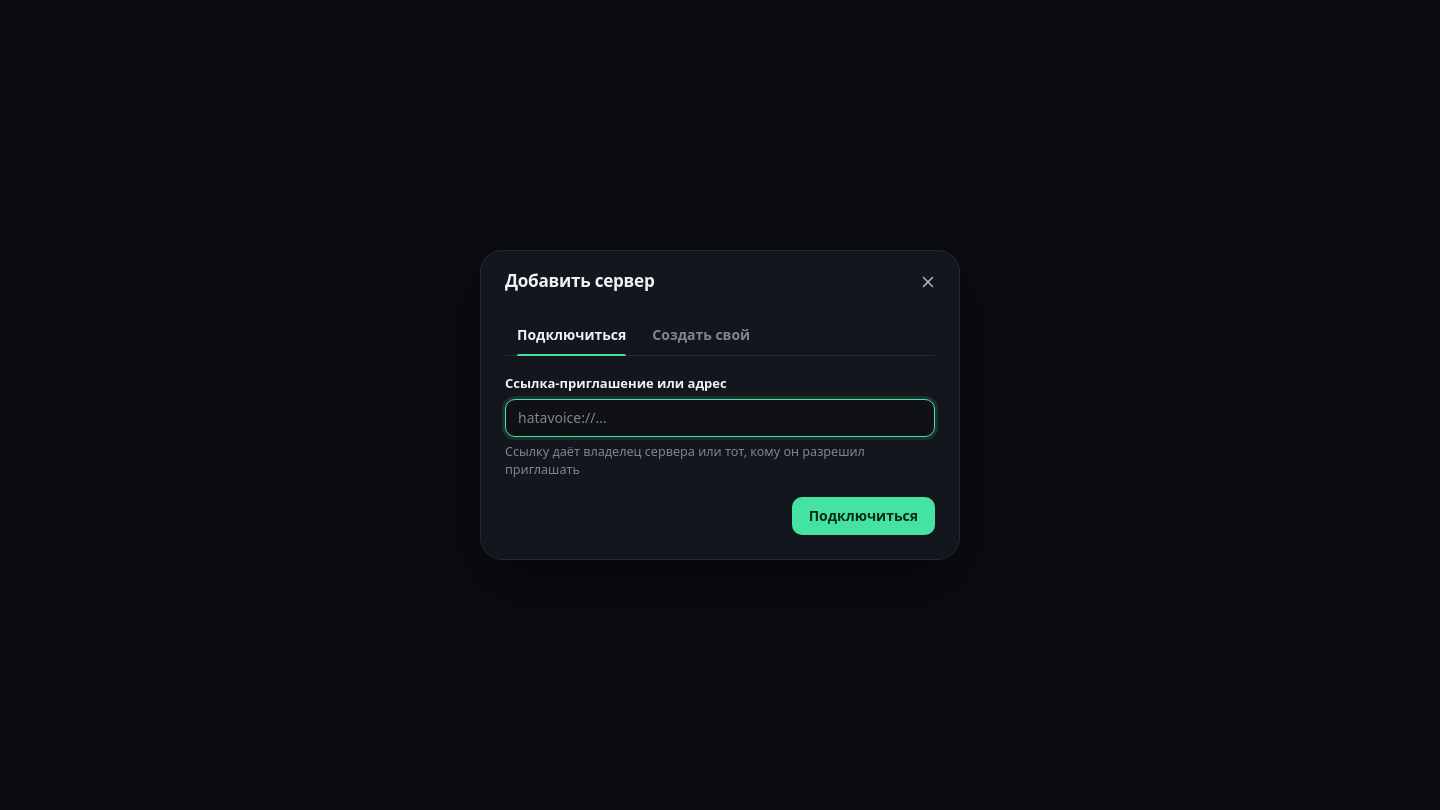
it: joining › a pasted invite link goes to the join screen, a plain address to openServer
Later steps or results of the test are not shown.
In the field labelled "Ссылка-приглашение или адрес": {"x": 720, "y": 418} [505,399,935,437], type "hatavoice://1.2.3.4:7350/#v=1&sk=SK&inv=SECRET"
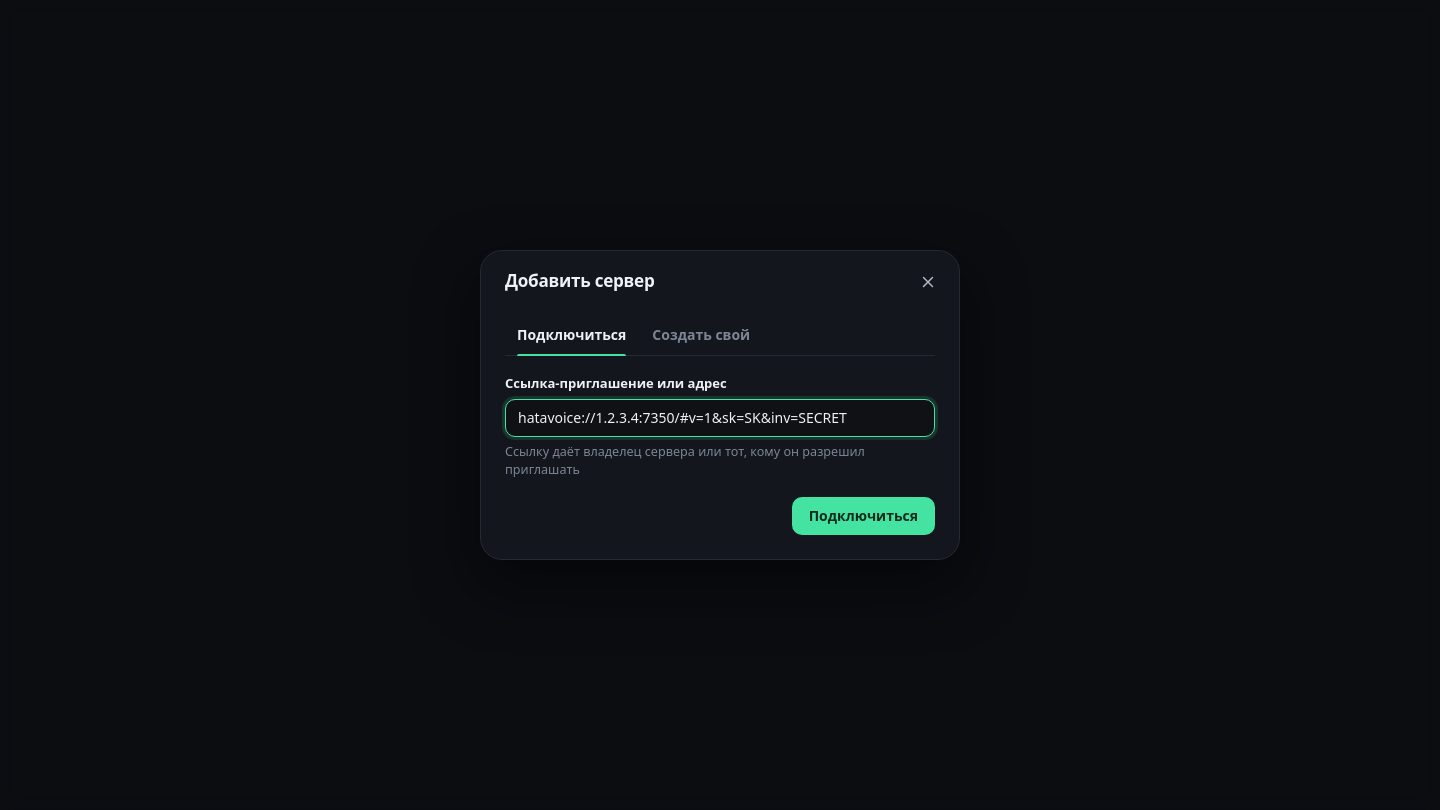
Click the button "Подключиться": {"x": 863, "y": 516} [792,497,935,535]
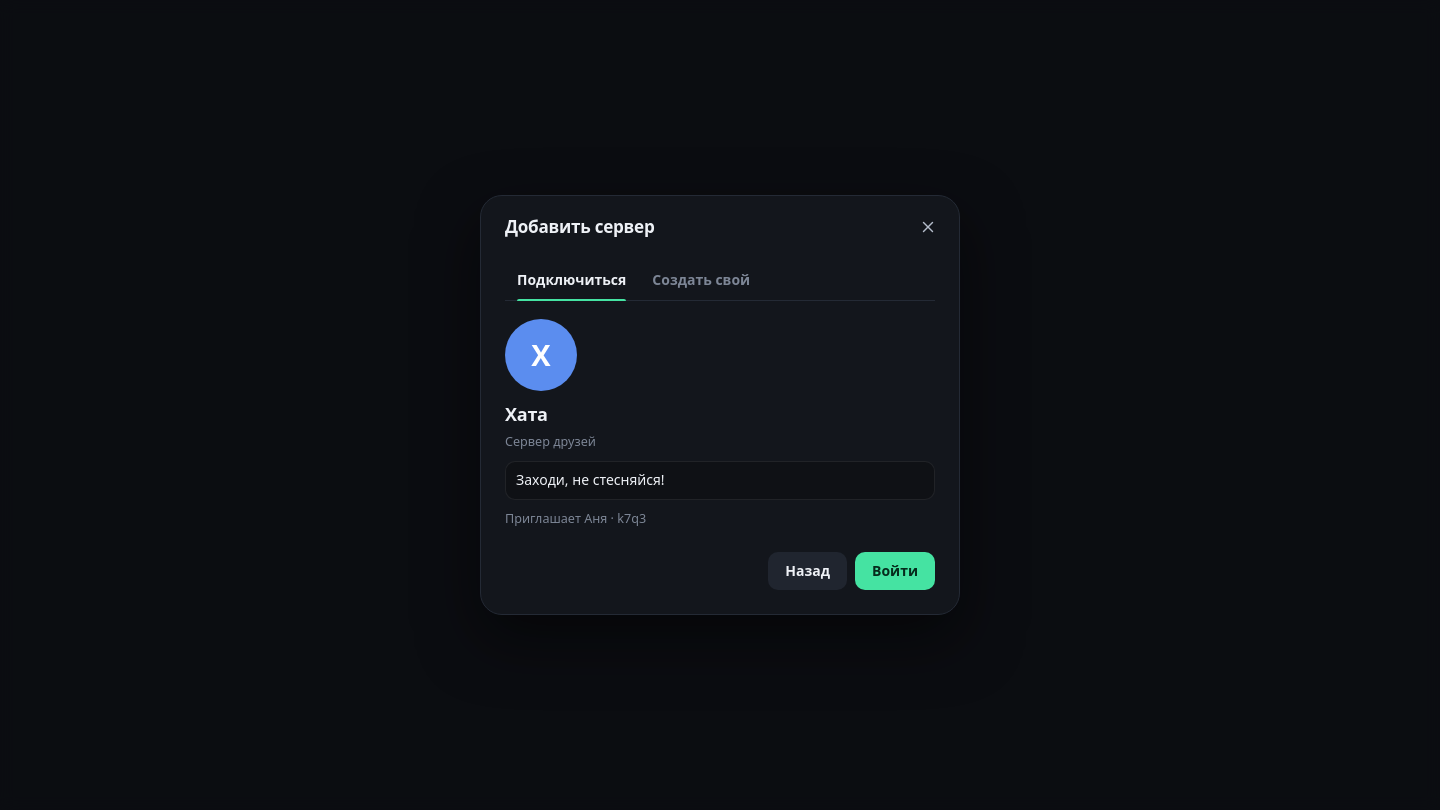
Result: the text "Заходи, не стесняйся!" is shown at [505,461,935,500]
